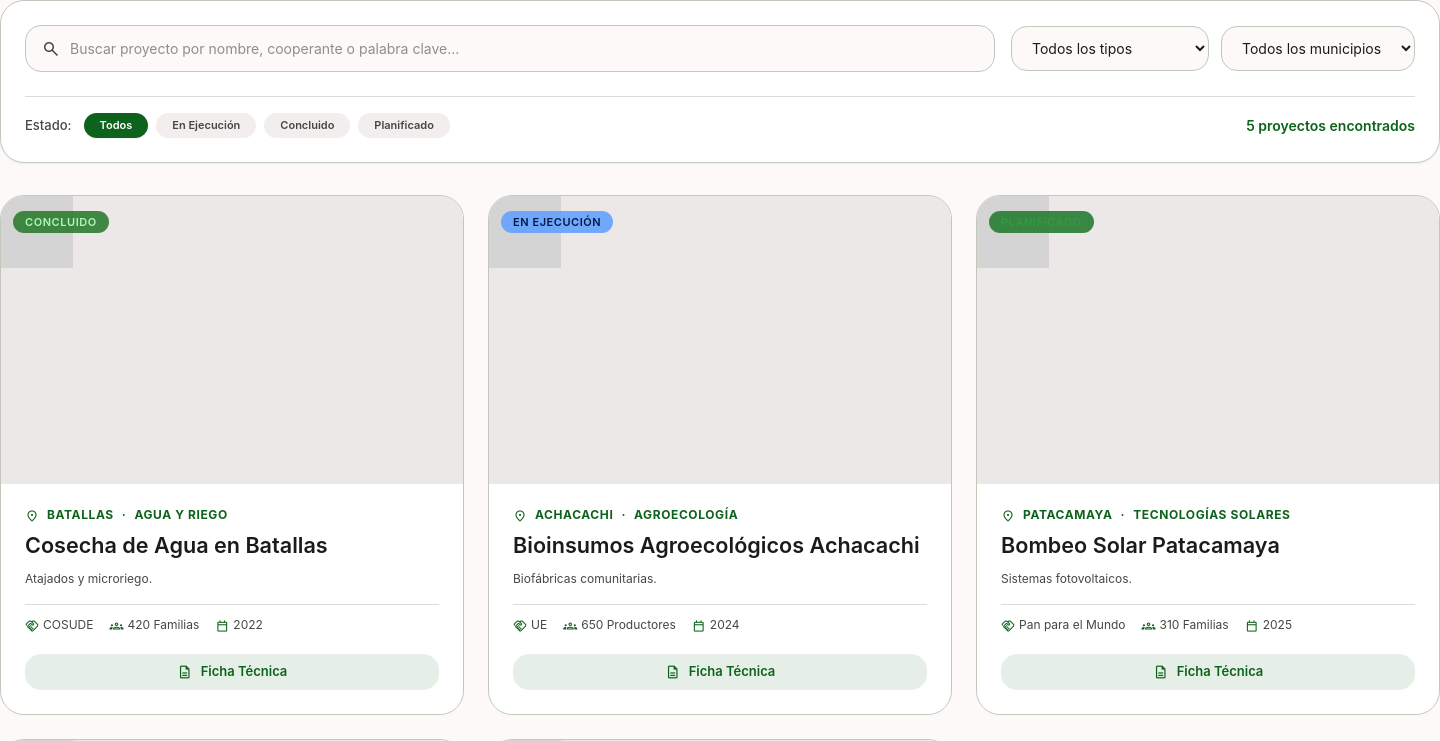
Scenario: ProjectsExplorer — filtro por estado › filtra por estado 'En Ejecución' → muestra 2 proyectos
This screenshot has width=1440, height=741.
Click the button "En Ejecución" at (206,125), box [156,113,256,138]
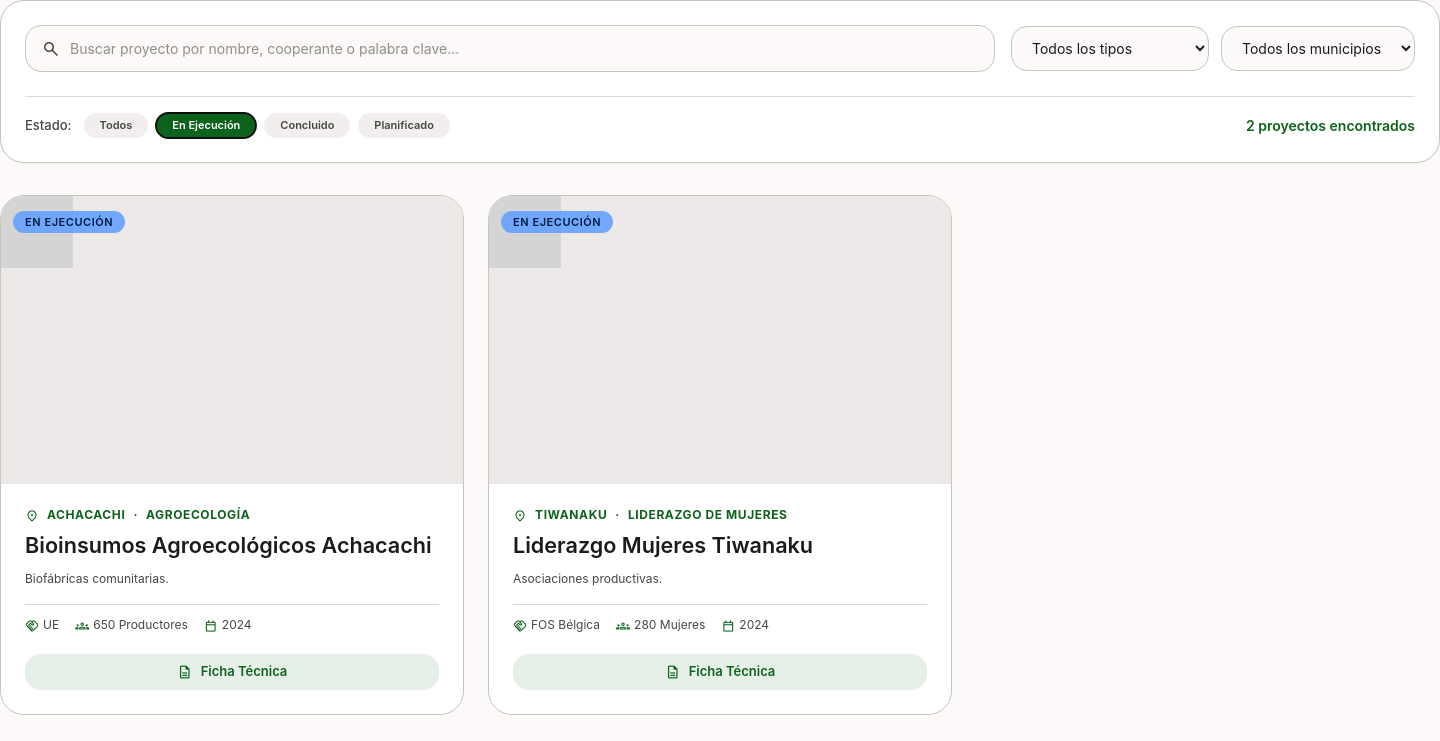
Check: the heading "Bioinsumos Agroecológicos Achacachi" is shown, box [25,531,439,559]
Check: the heading "Cosecha de Agua en Batallas" is gone
